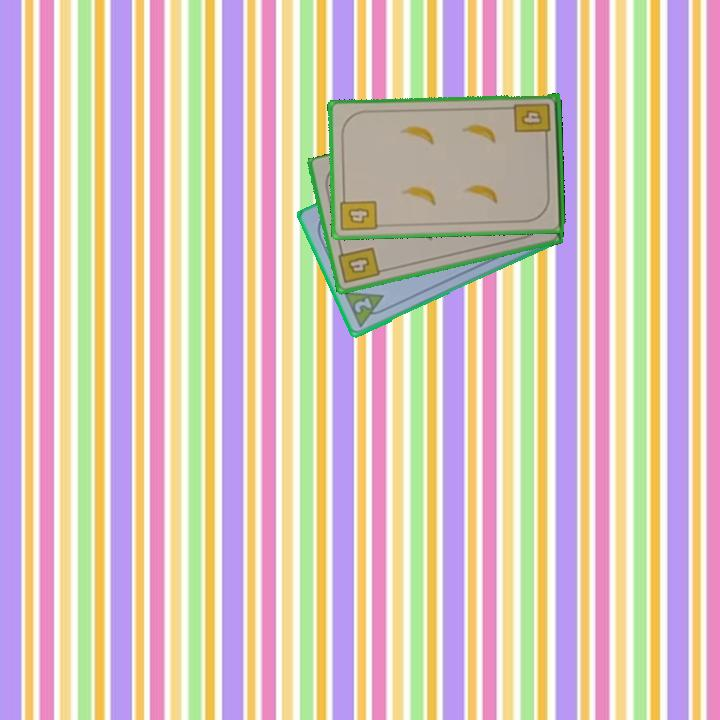2p: (350, 294, 375, 316)
4b: (335, 244, 383, 286), (337, 190, 380, 234), (511, 100, 554, 143)
